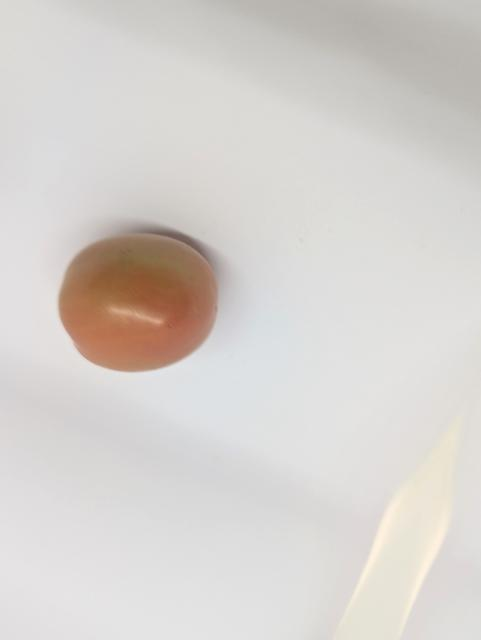turning: (54, 230, 226, 379)
